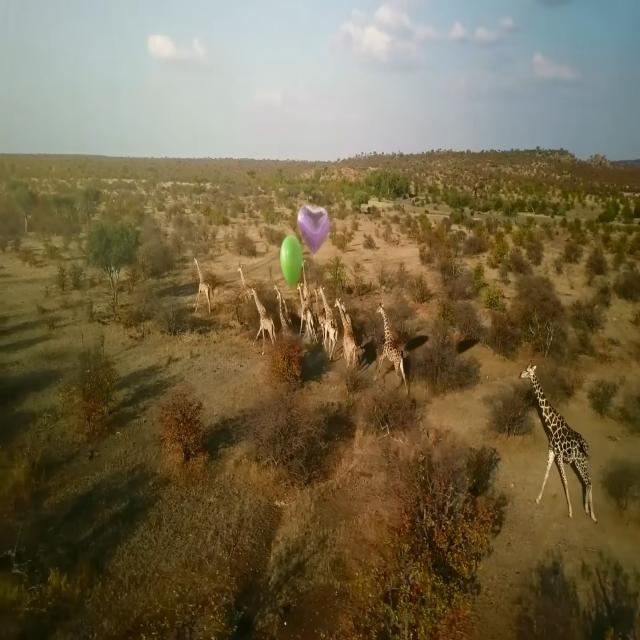balloon: (299, 205, 329, 256), (281, 233, 304, 292)
